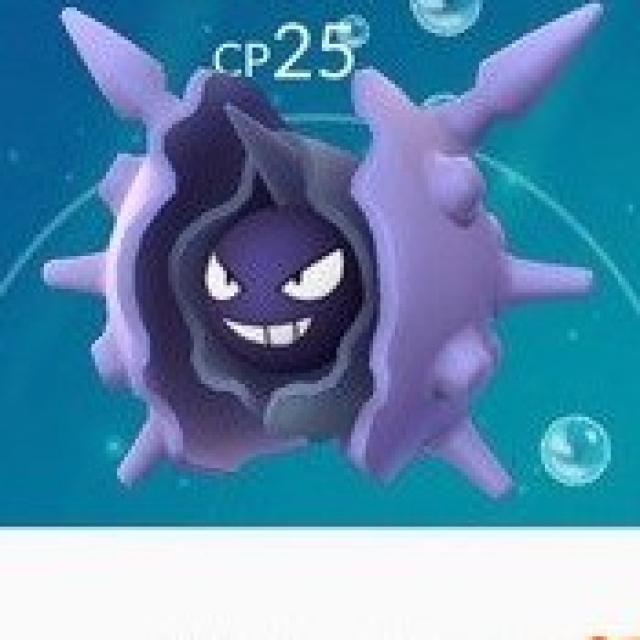Cloyster: (94, 66, 528, 479)
